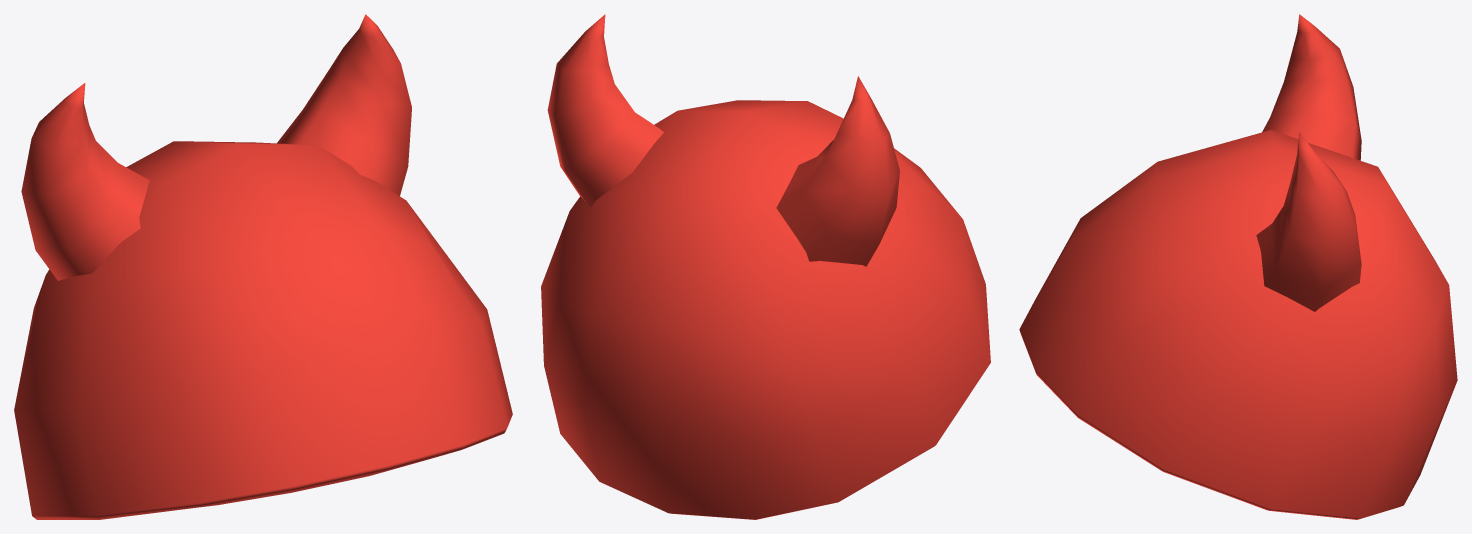
File: Hat_012.glb
3 views of the same model, side by side, from view 1: azimuth 30°, elevation 25°; view 2: azimuth 150°, elevation 25°; view 3: azimuth 270°, elevation 25° (orthographic). The views are drawn at different scales.
Parts seen in each view (by area): view 1: Hat_012; view 2: Hat_012; view 3: Hat_012.
Part boxes in pixels (x1,y1,x2,y2): Hat_012: [14, 14, 512, 519]; Hat_012: [541, 14, 990, 519]; Hat_012: [1019, 14, 1457, 519].
Size of the model in its own units: 0.4343 by 0.4646 by 0.4559.
1 material, 1 textured.
